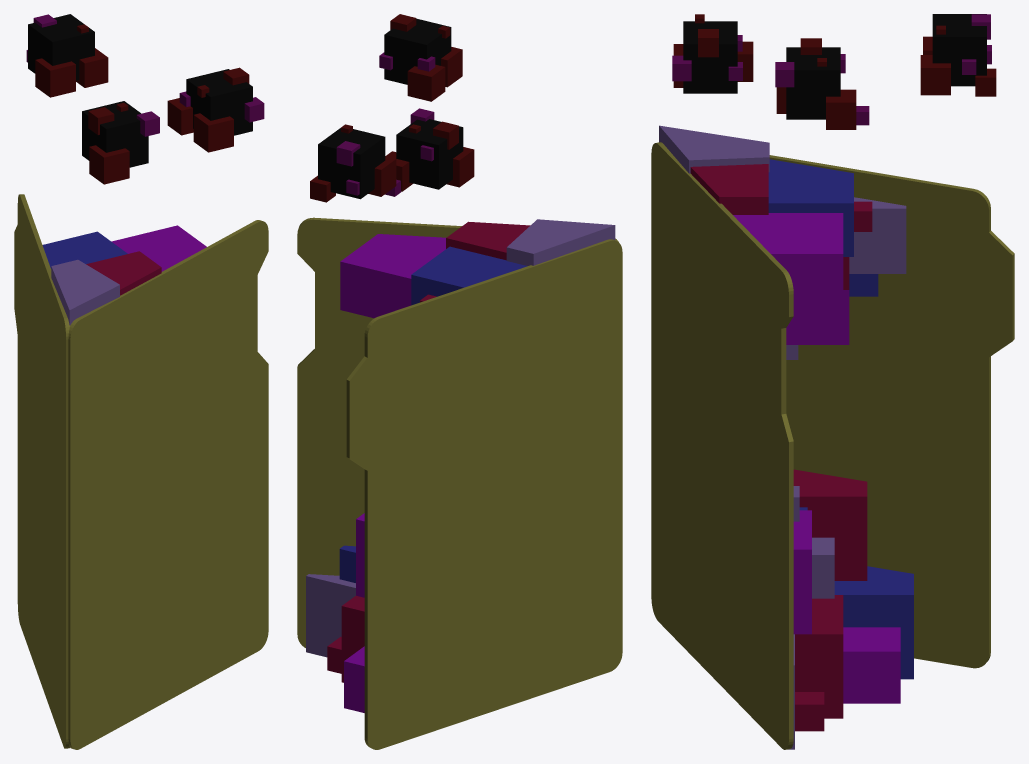
The model's file is Blaster_Tower.fbx.
3 views of the same model, side by side, from view 1: azimuth 30°, elevation 25°; view 2: azimuth 150°, elevation 25°; view 3: azimuth 270°, elevation 25° (orthographic). The views are drawn at different scales.
Visible parts, largest first — view 1: Blaster_Tower_; view 2: Blaster_Tower_; view 3: Blaster_Tower_.
Boxes of the visible parts, <box> form: Blaster_Tower_: <box>14,14,268,749</box>; Blaster_Tower_: <box>297,14,622,749</box>; Blaster_Tower_: <box>651,14,1014,749</box>.
Bounding box in the file's own units: 2.88 × 6.44 × 3.1.
